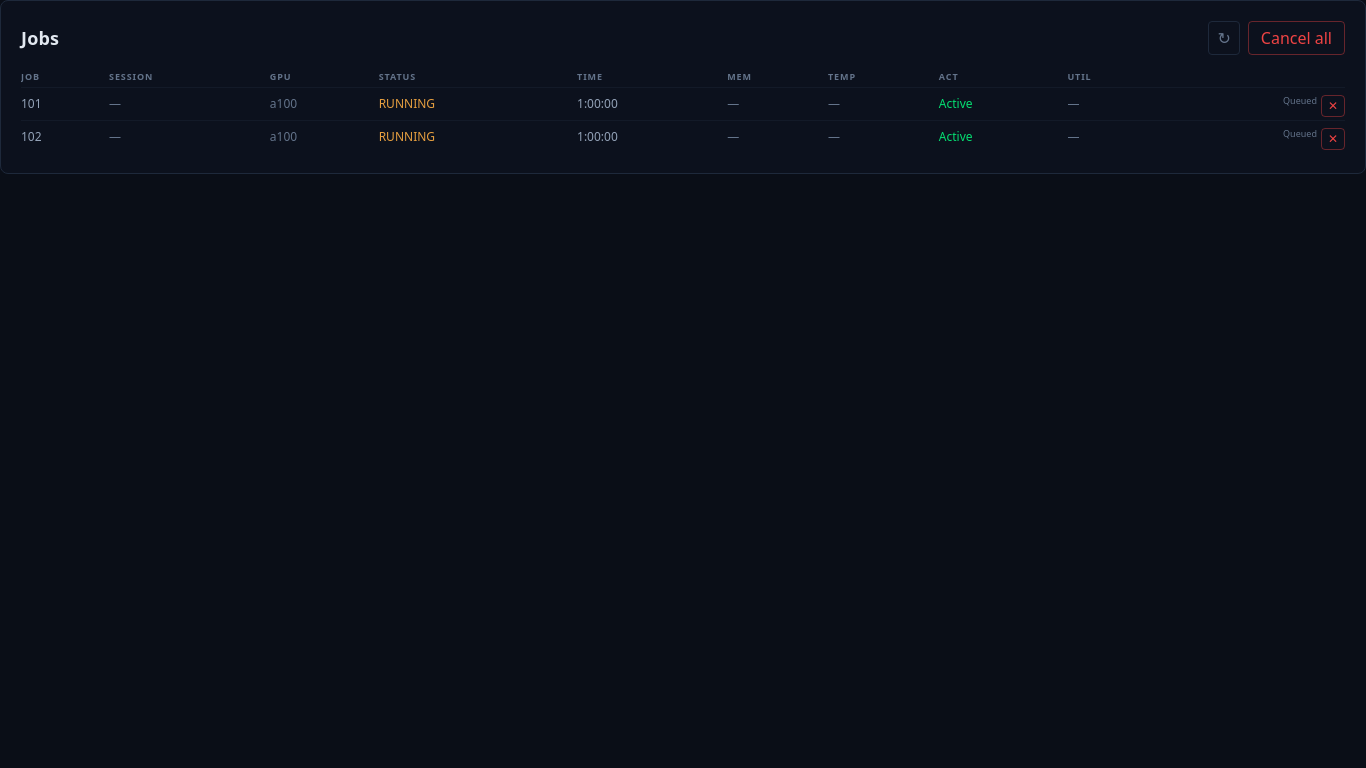
JobTable cancellation › stops Cancel all at the first failure
What coordinates should you click on to do the following:
click the button "Cancel all"
I would click on:
 (1296, 38)
Its box is top-left (1248, 21), bottom-right (1345, 55).
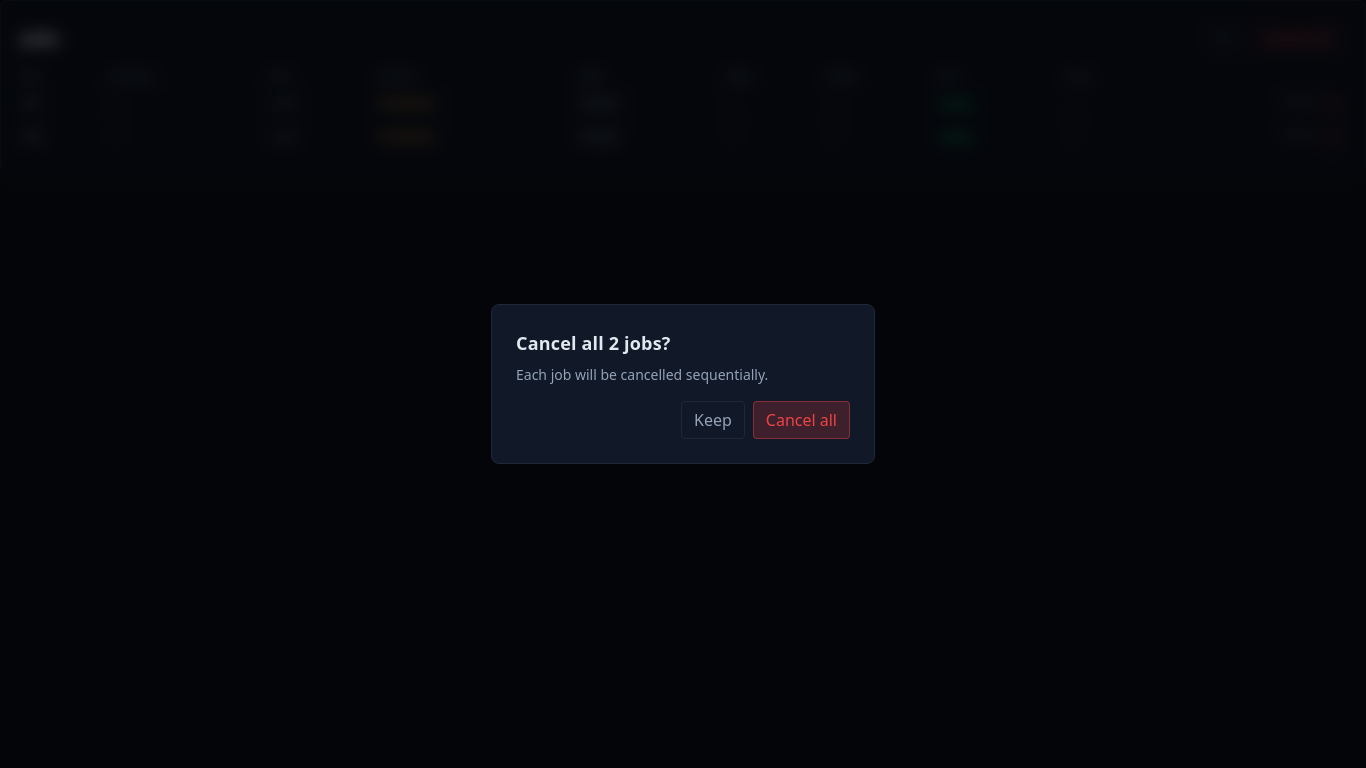
What coordinates should you click on to do the following:
click the button "Cancel all"
I would click on:
 (801, 420)
Its box is top-left (753, 401), bottom-right (850, 439).
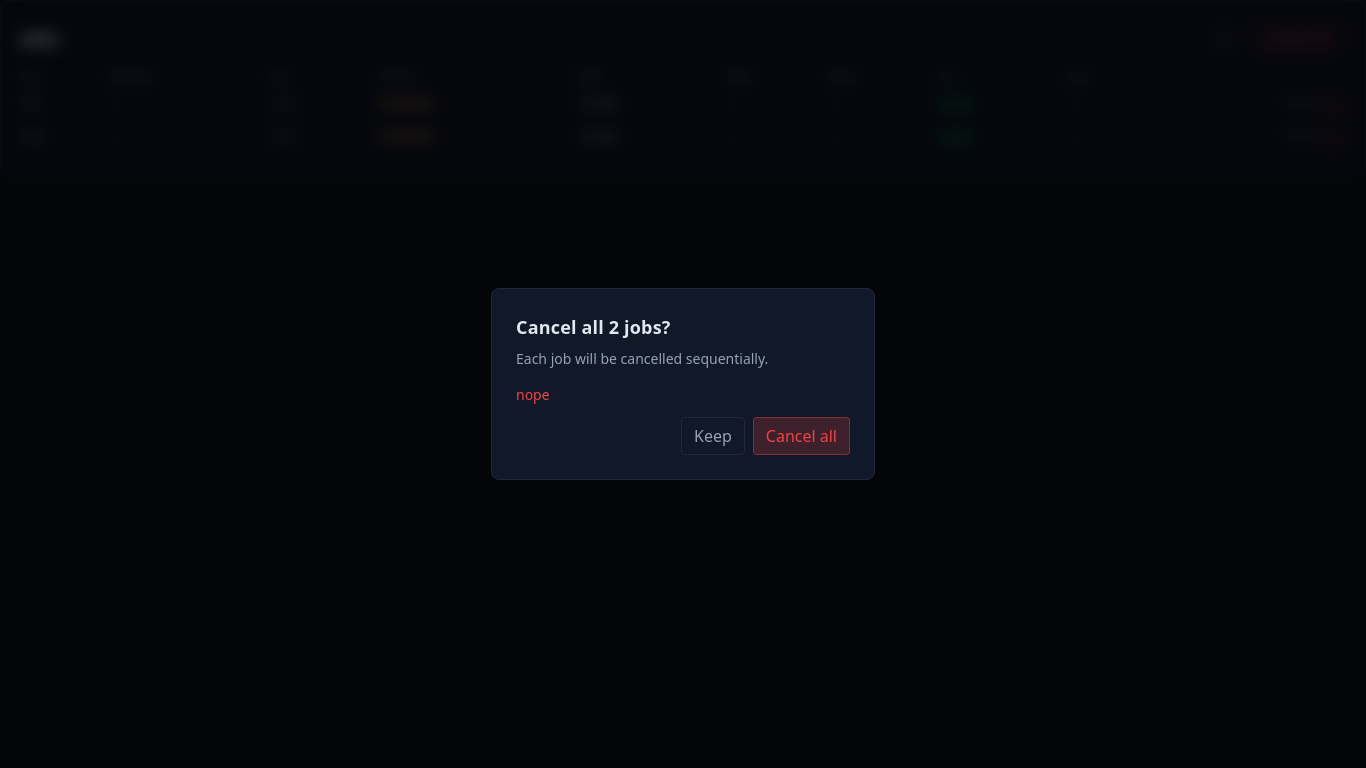
Check: the text "nope" is shown, box top-left (516, 385), bottom-right (550, 404)
